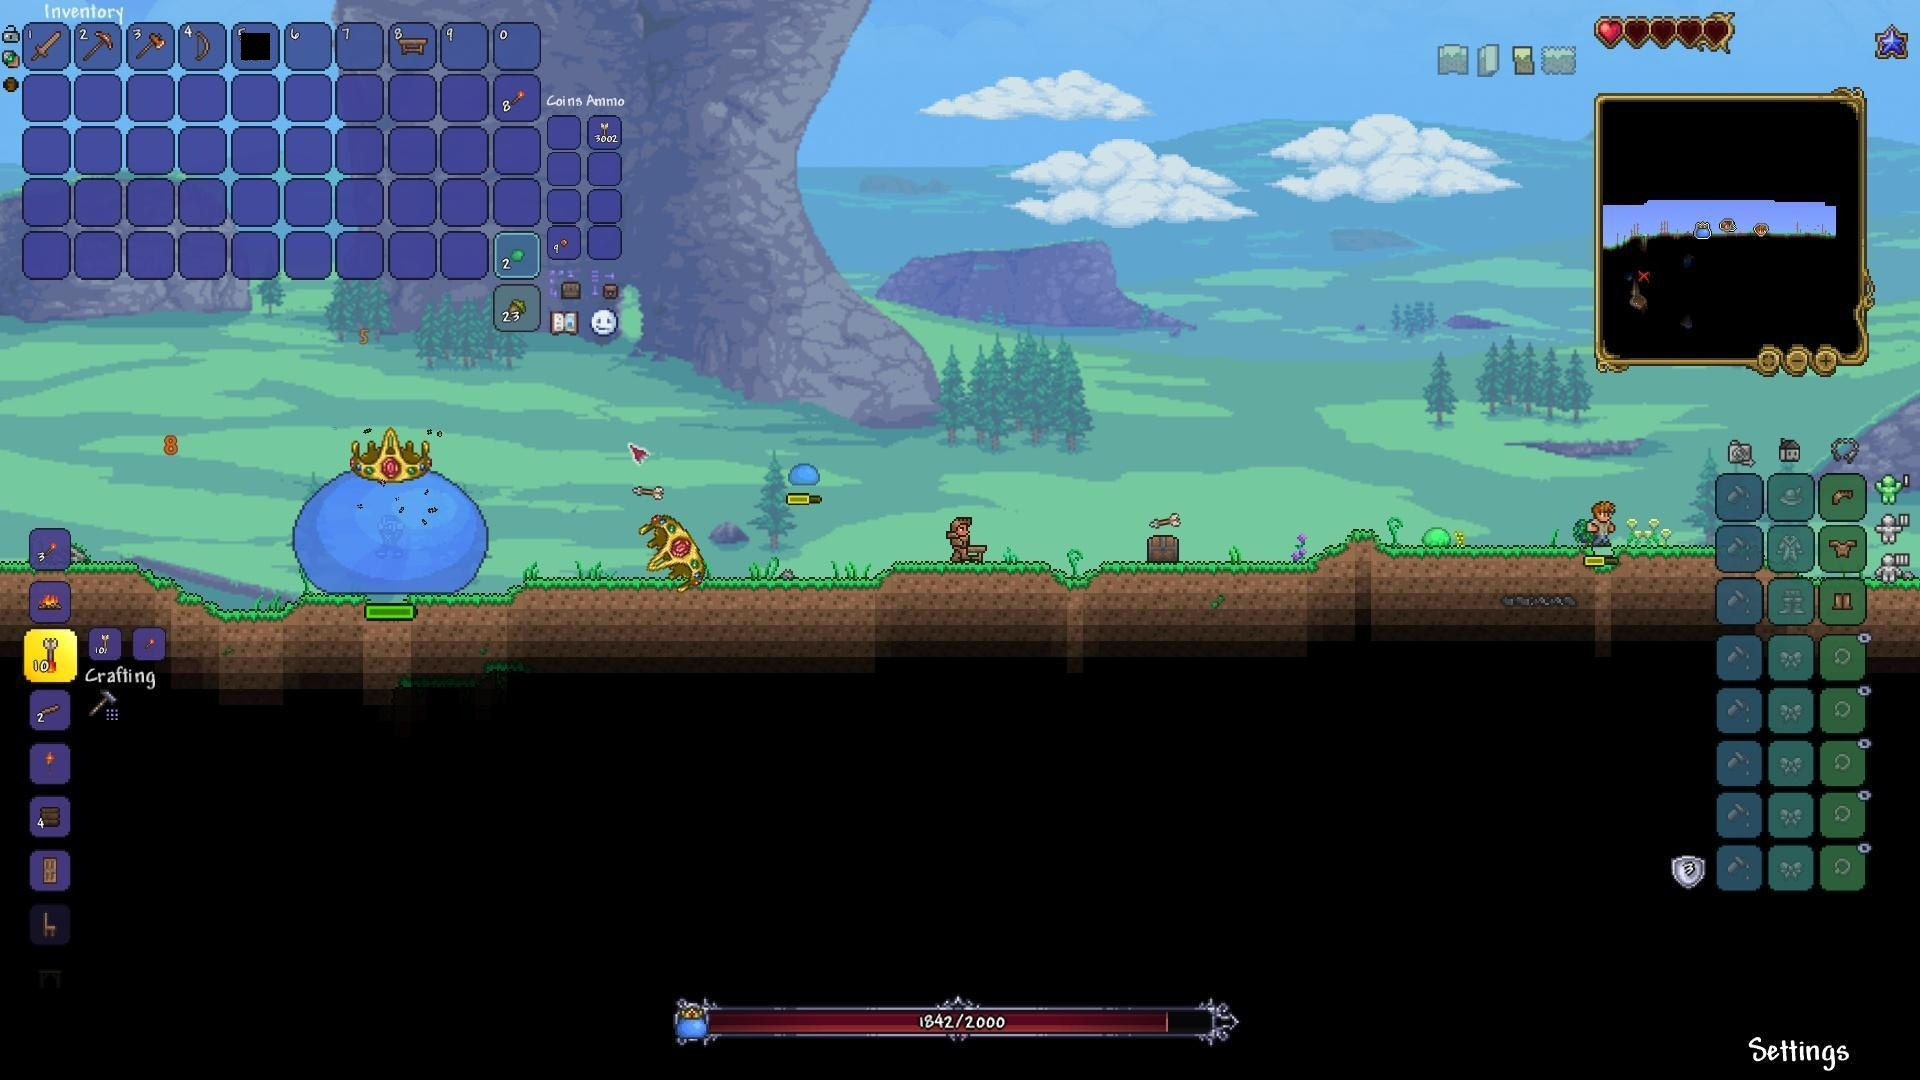breastplate: (1829, 537, 1859, 559)
helmet: (1828, 483, 1858, 510)
legs: (1832, 588, 1855, 617)
slime: (786, 462, 825, 489)
workbench: (393, 36, 430, 61), (960, 539, 992, 564)
